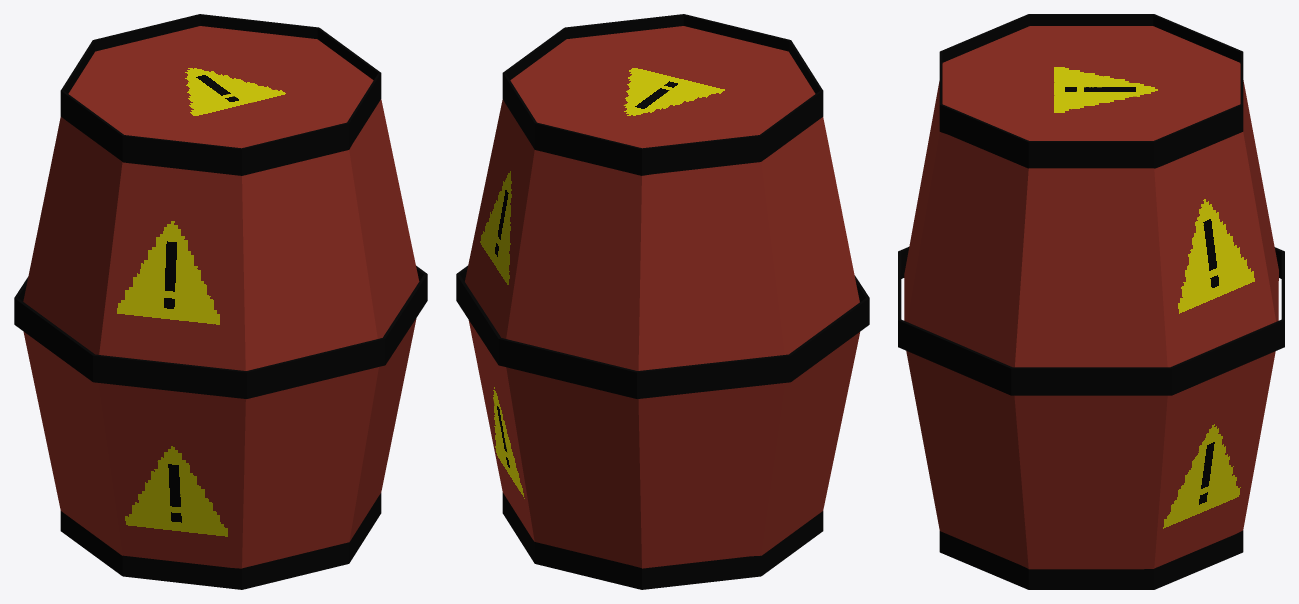
The model's file is barrel.gltf.
3 renders of one model, left to right at view 1: azimuth 30°, elevation 25°; view 2: azimuth 150°, elevation 25°; view 3: azimuth 270°, elevation 25°, orthographic.
Parts seen in each view (by area): view 1: cylinder, tube (×3); view 2: cylinder, tube (×3); view 3: cylinder, tube (×3).
Part boxes in pixels (x1=…): cylinder: x1=23, y1=26, x2=419, y2=568; tube (×3): x1=14, y1=14, x2=427, y2=589; cylinder: x1=465, y1=26, x2=859, y2=568; tube (×3): x1=456, y1=14, x2=869, y2=589; cylinder: x1=904, y1=26, x2=1278, y2=569; tube (×3): x1=898, y1=14, x2=1284, y2=589.
Size of the model in its own units: 0.825 by 1.04 by 0.8125.
Materials: 2 (2 with a texture image).
